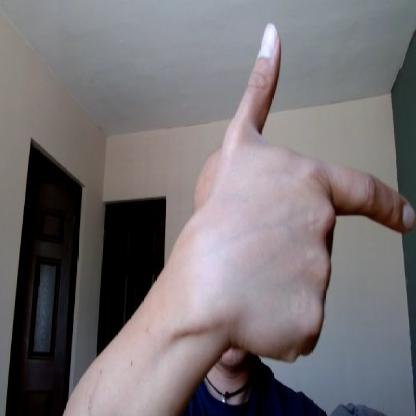G: (211, 18, 415, 362)
